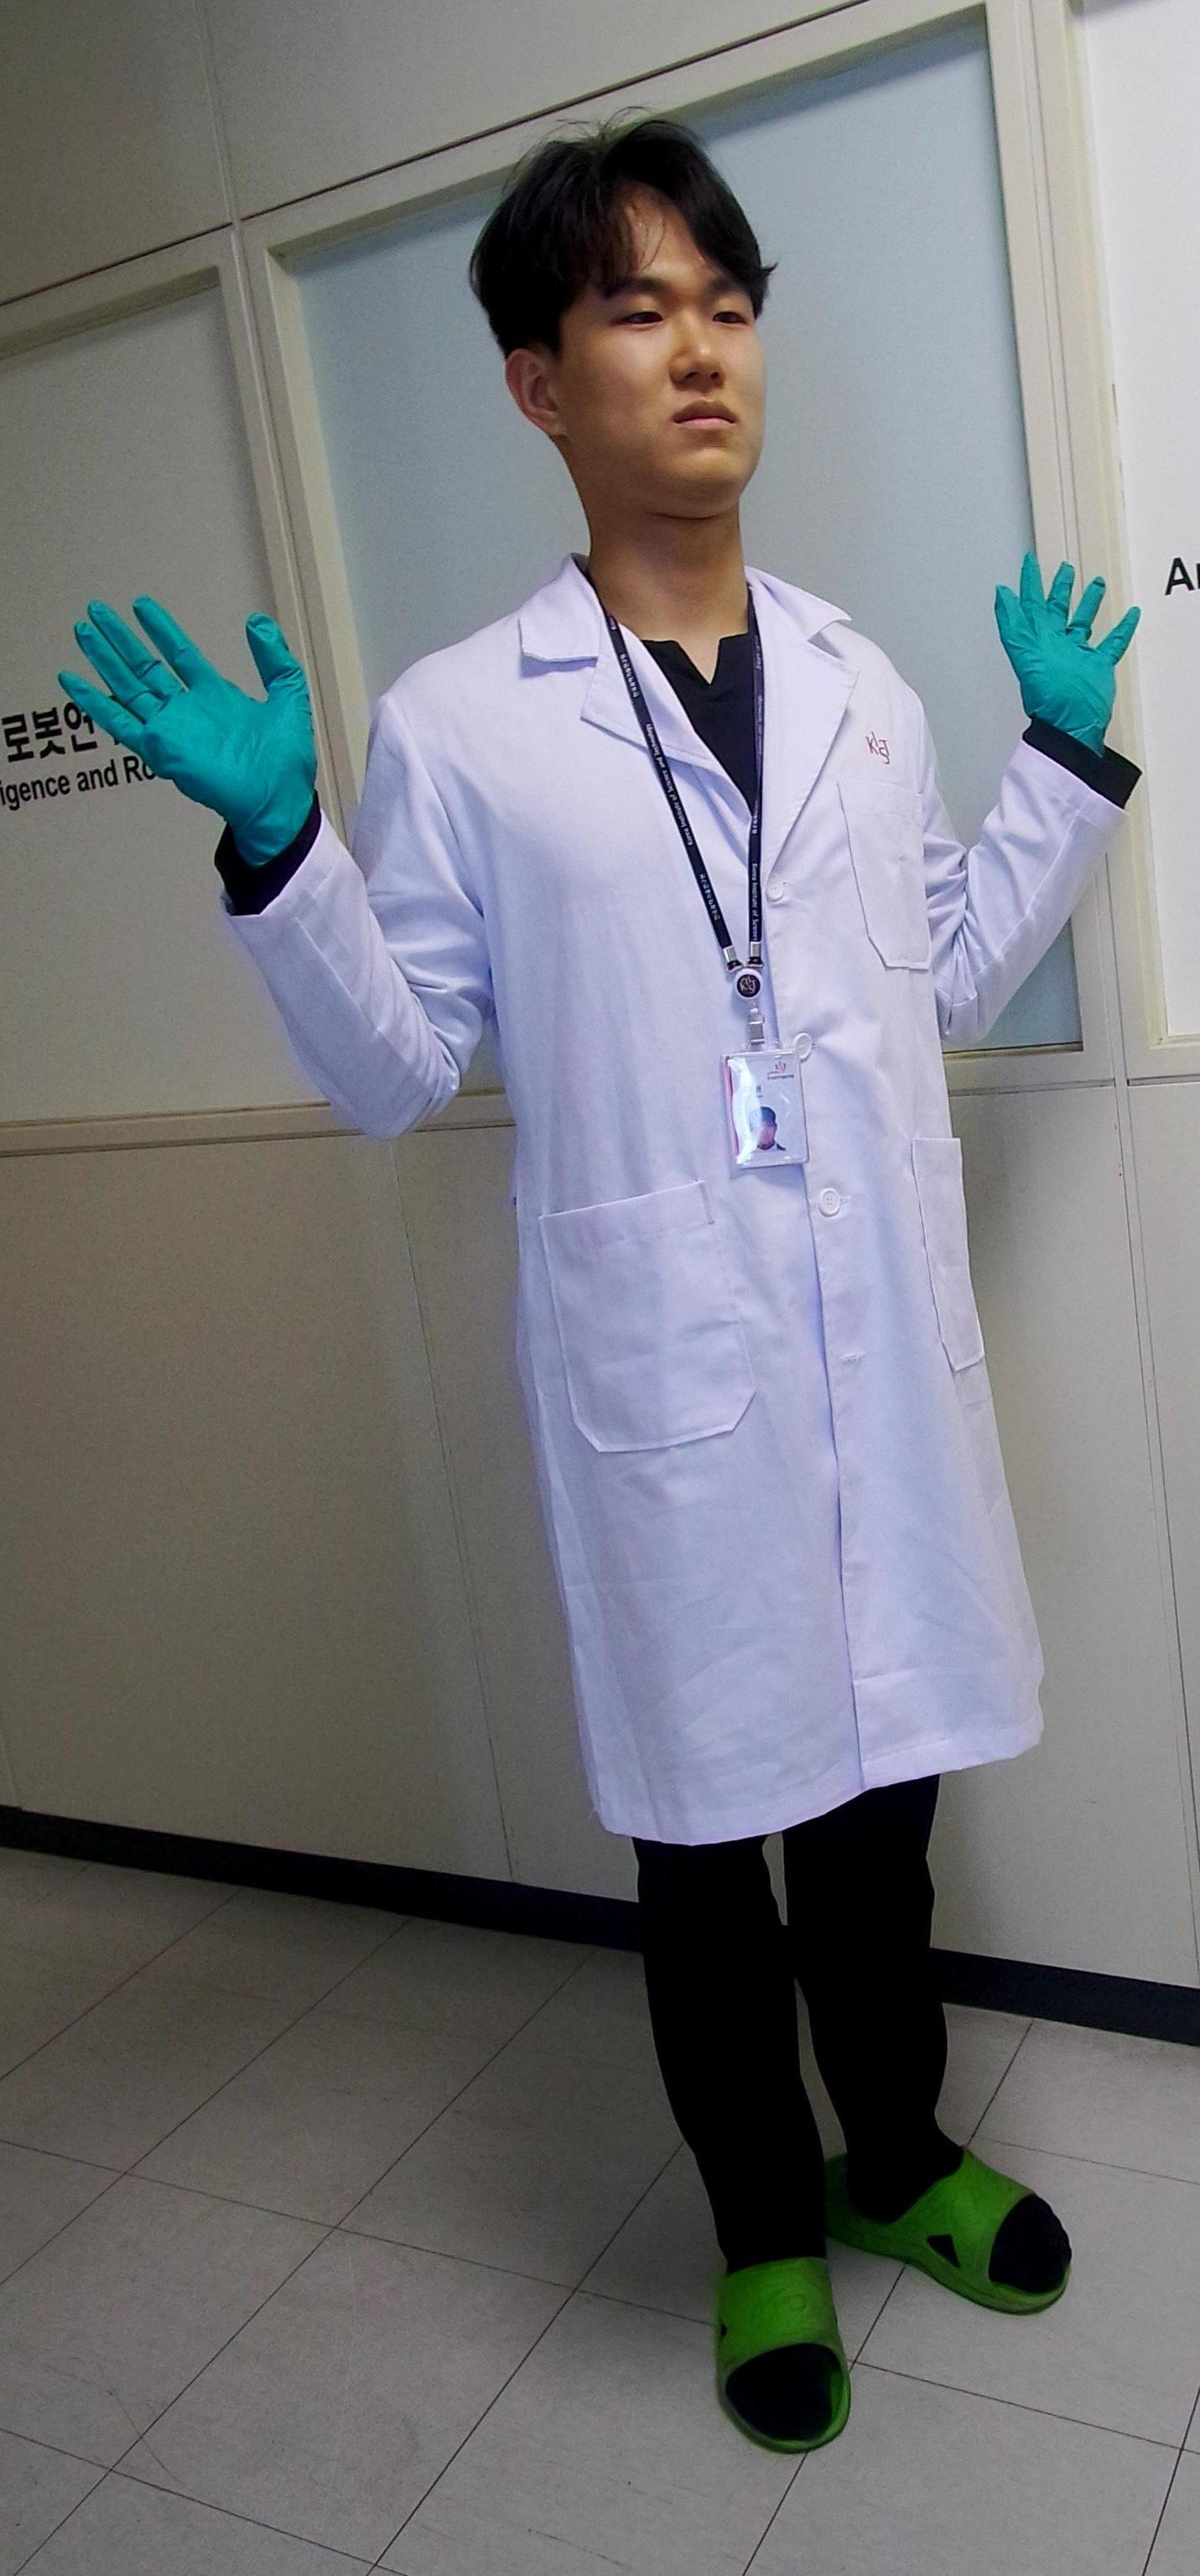lab_coat: (222, 549, 1133, 1848)
